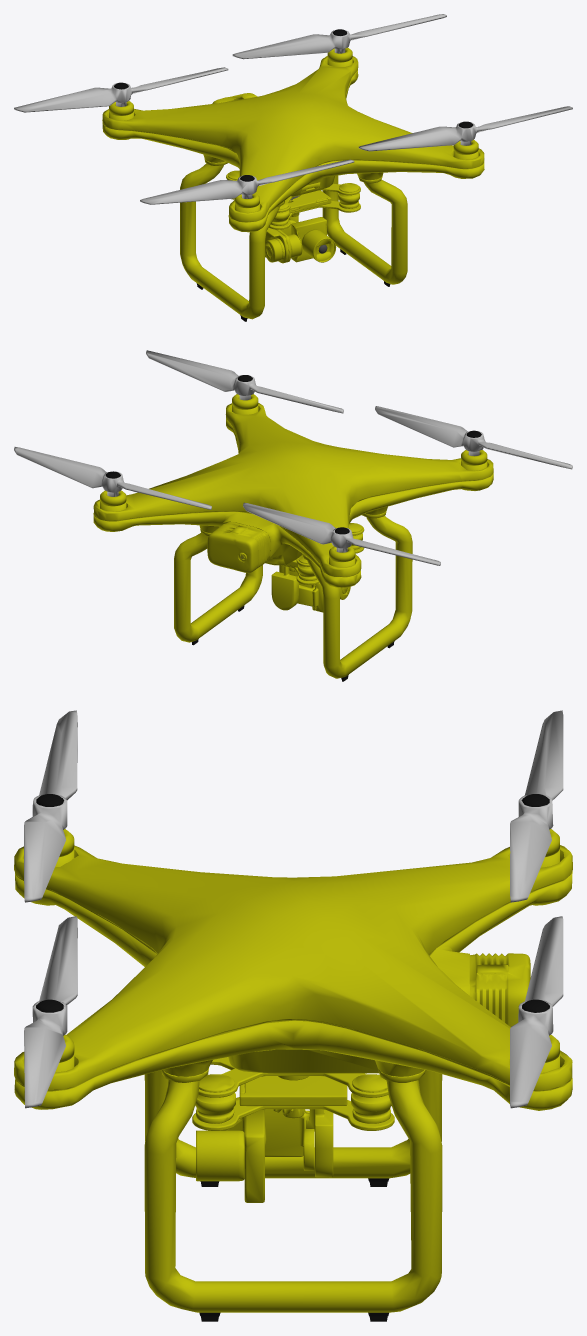
Rendered from drone.glb.
3 views of the same model, one above another, from view 1: azimuth 30°, elevation 25°; view 2: azimuth 150°, elevation 25°; view 3: azimuth 270°, elevation 25° (orthographic). The views are drawn at different scales.
Parts seen in each view (by area): view 1: GEO_Main_Body, GEO_Propeller_03, GEO_Propeller_01, GEO_Propeller_02, GEO_Propeller_04, GEO_Camera_Part_015, GEO_Computer, GEO_Camera_Part_016, GEO_Camera_Part_012, GEO_Lathe_01, GEO_Base_01, GEO_Support_02 (+4 smaller); view 2: GEO_Main_Body, Battery, GEO_Propeller_02, GEO_Propeller_04, GEO_Propeller_01, GEO_Propeller_03, GEO_Camera_Part_020, GEO_Camera_Part_012, GEO_Base_03, GEO_Base_04, GEO_Base_01, GEO_Base_02; view 3: GEO_Main_Body, GEO_Propeller_02, GEO_Propeller_03, GEO_Propeller_04, GEO_Propeller_01, Battery, GEO_Computer, GEO_Camera_Part_016, GEO_Camera_Part_012, GEO_Camera_Part_015, GEO_Support_02, GEO_Lathe_01 (+3 smaller).
Part boxes in pixels (x1,y1,x2,y2): GEO_Main_Body: (102,56,484,319); GEO_Propeller_03: (232,14,446,59); GEO_Propeller_01: (358,106,572,151); GEO_Propeller_02: (140,159,354,204); GEO_Propeller_04: (14,67,228,112); GEO_Camera_Part_015: (291,217,326,262); GEO_Computer: (289,190,331,213); GEO_Camera_Part_016: (301,229,336,262); GEO_Camera_Part_012: (265,219,296,263); GEO_Lathe_01: (338,183,359,208); GEO_Base_01: (453,139,478,159); GEO_Support_02: (231,198,360,229); GEO_Main_Body: (93,403,493,678); Battery: (207,522,270,573); GEO_Propeller_02: (375,406,572,469); GEO_Propeller_04: (243,502,440,565); GEO_Propeller_01: (146,350,343,413); GEO_Propeller_03: (14,447,211,509); GEO_Camera_Part_020: (271,566,298,610); GEO_Camera_Part_012: (297,582,323,612); GEO_Base_03: (100,490,126,511); GEO_Base_04: (329,546,355,567); GEO_Base_01: (232,394,258,414); GEO_Base_02: (461,450,487,470); GEO_Main_Body: (14,845,572,1312); GEO_Propeller_02: (24,710,77,902); GEO_Propeller_03: (510,916,563,1108); GEO_Propeller_04: (510,710,563,902); GEO_Propeller_01: (24,916,77,1108); Battery: (469,953,530,1026); GEO_Computer: (239,1076,347,1106); GEO_Camera_Part_016: (196,1130,244,1181); GEO_Camera_Part_012: (236,1099,314,1170); GEO_Camera_Part_015: (226,1109,264,1202); GEO_Support_02: (192,1057,394,1130); GEO_Lathe_01: (195,1074,235,1123).
Size of the model in its own units: 193 by 80.48 by 115.
